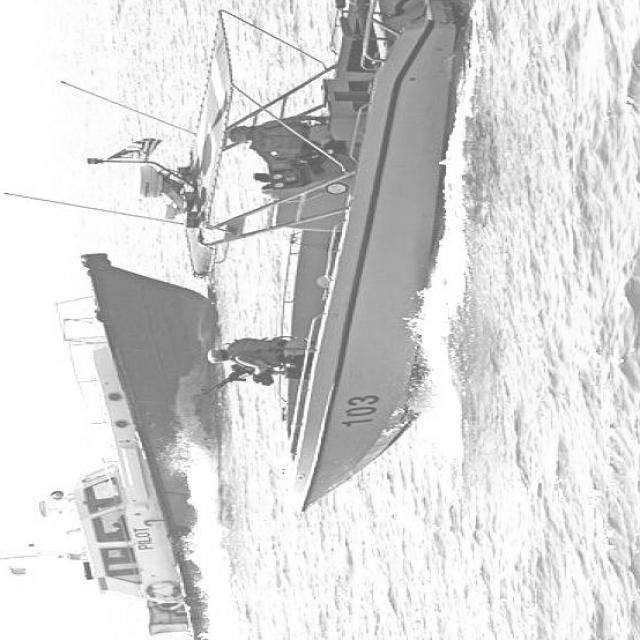ship: (116, 0, 480, 512), (0, 242, 247, 640)
